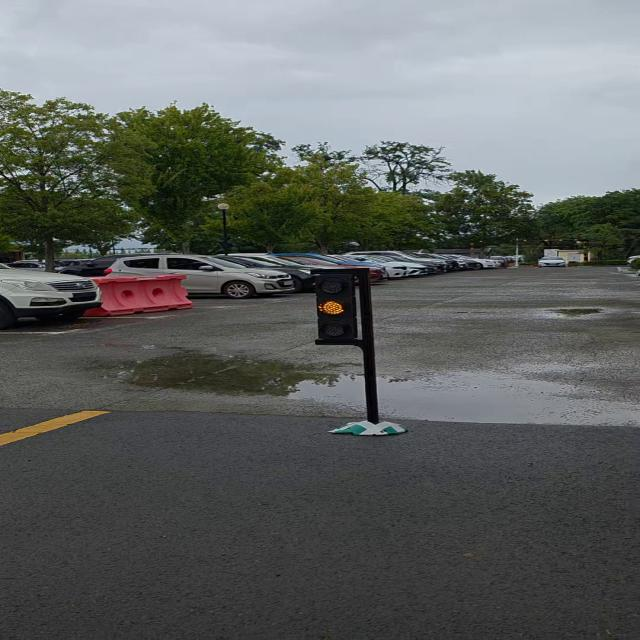yellow: (314, 272, 359, 342)
